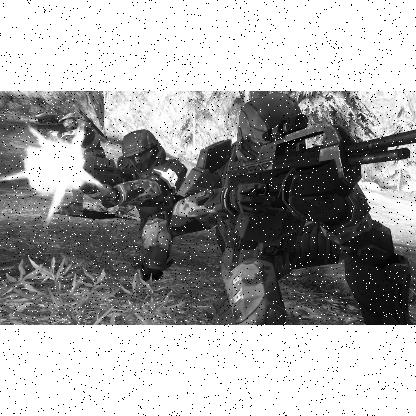gun: (224, 115, 416, 194)
